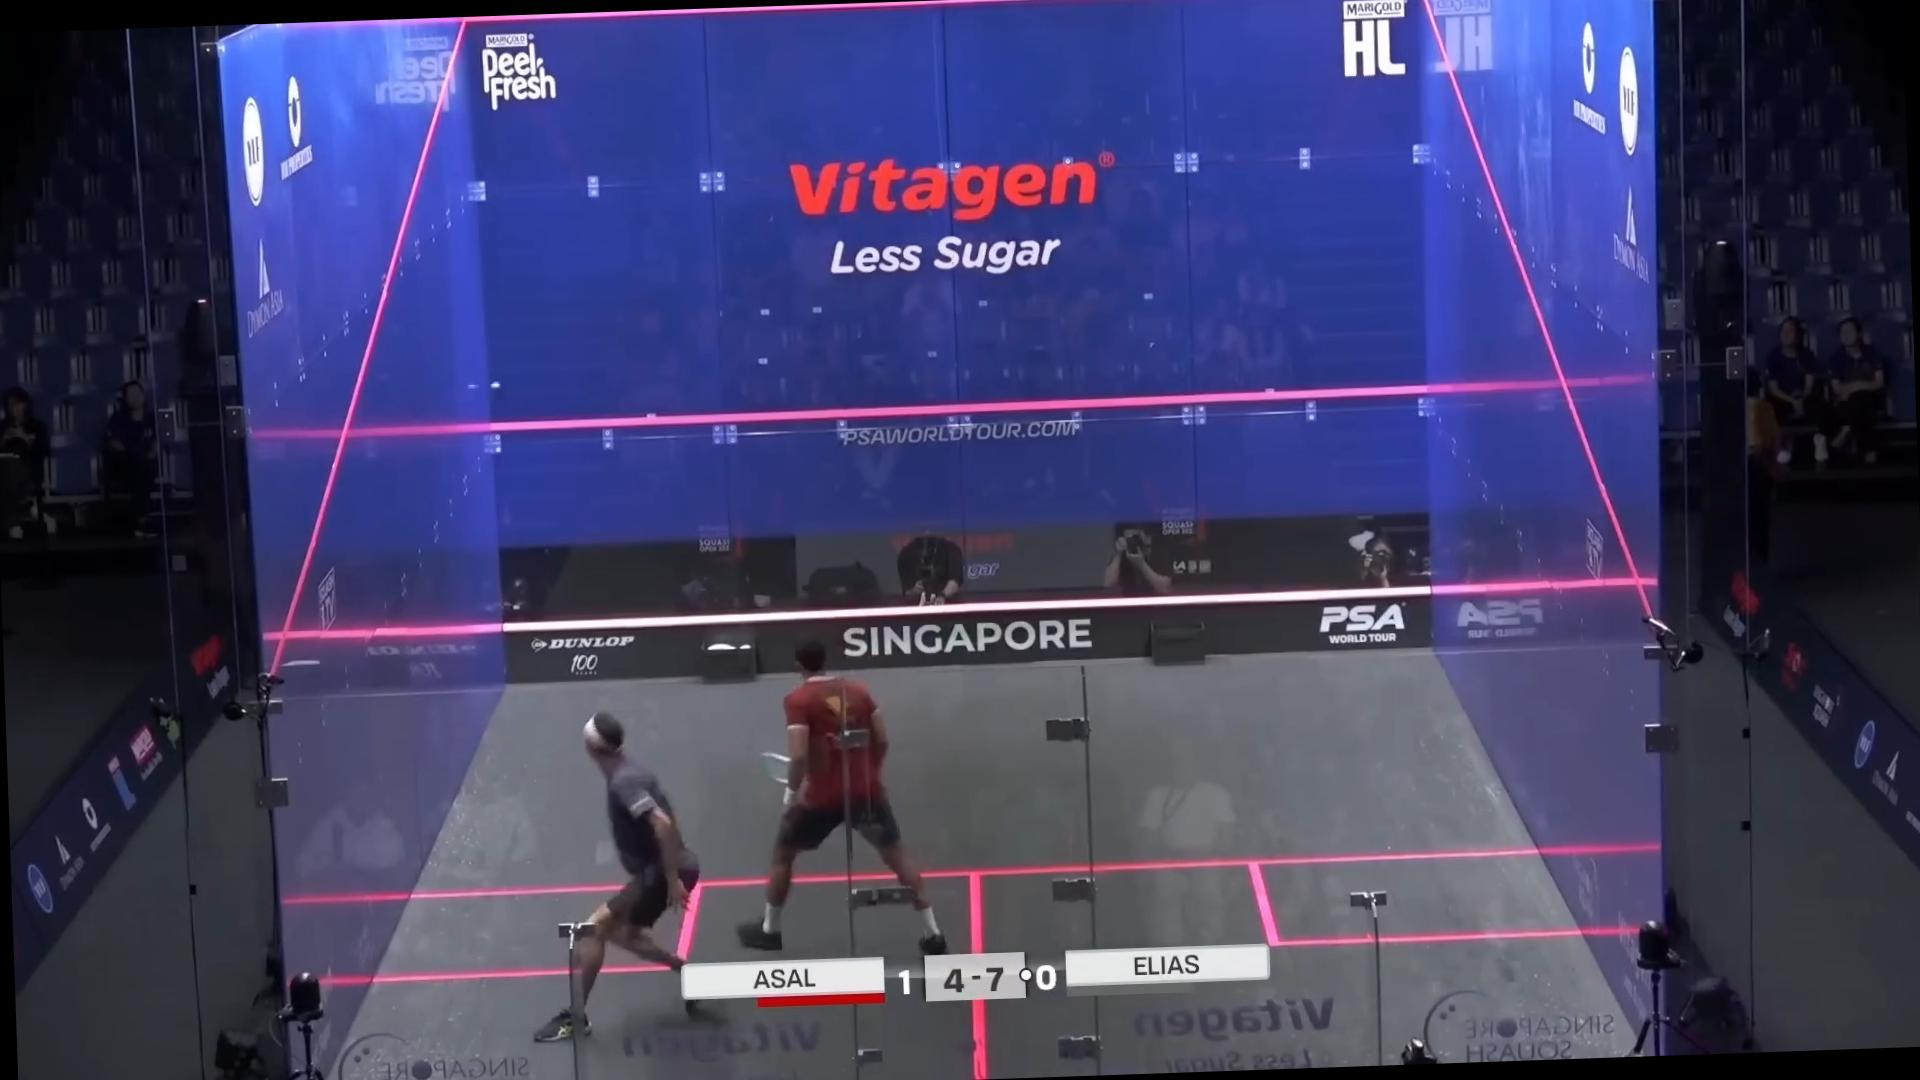Squash-Ball: (476, 367, 517, 406)
